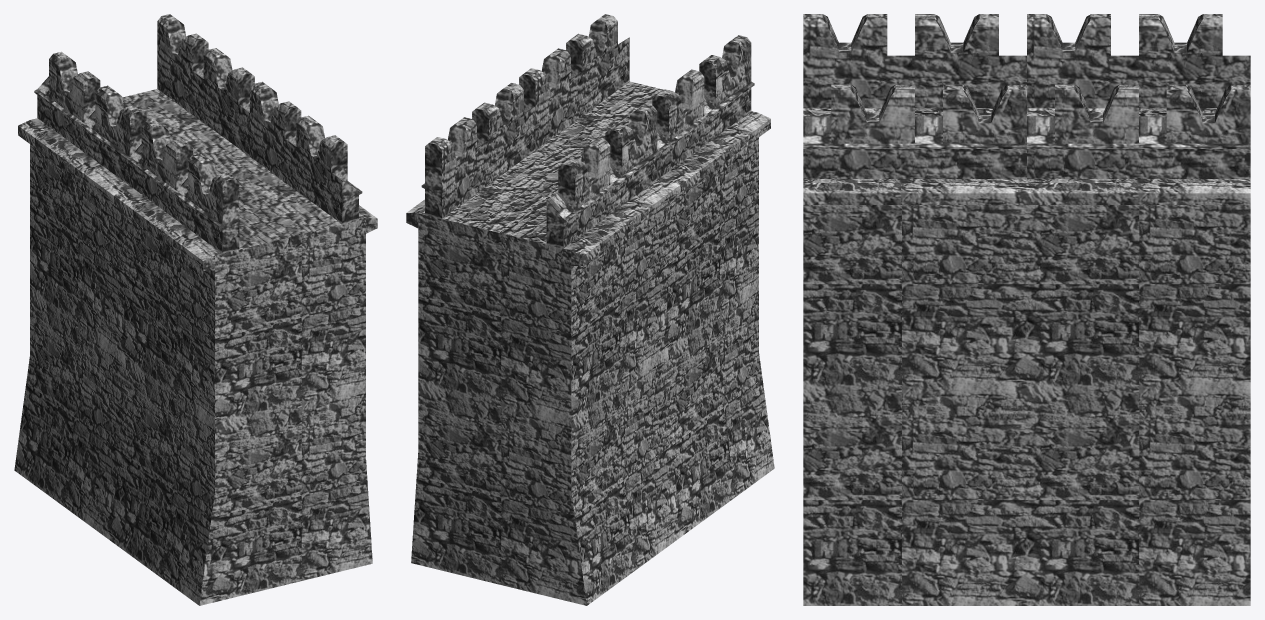
File: castleSet_WallStraight.fbx
3 renders of one model, left to right at view 1: azimuth 30°, elevation 25°; view 2: azimuth 150°, elevation 25°; view 3: azimuth 270°, elevation 25°, orthographic. The views are drawn at different scales.
Parts seen in each view (by area): view 1: TopWall; view 2: TopWall; view 3: TopWall.
Part boxes in pixels (bbox=[...]): TopWall: bbox=[14, 14, 377, 605]; TopWall: bbox=[406, 14, 774, 605]; TopWall: bbox=[803, 14, 1250, 605].
Size of the model in its own units: 11.11 by 24.95 by 20.
